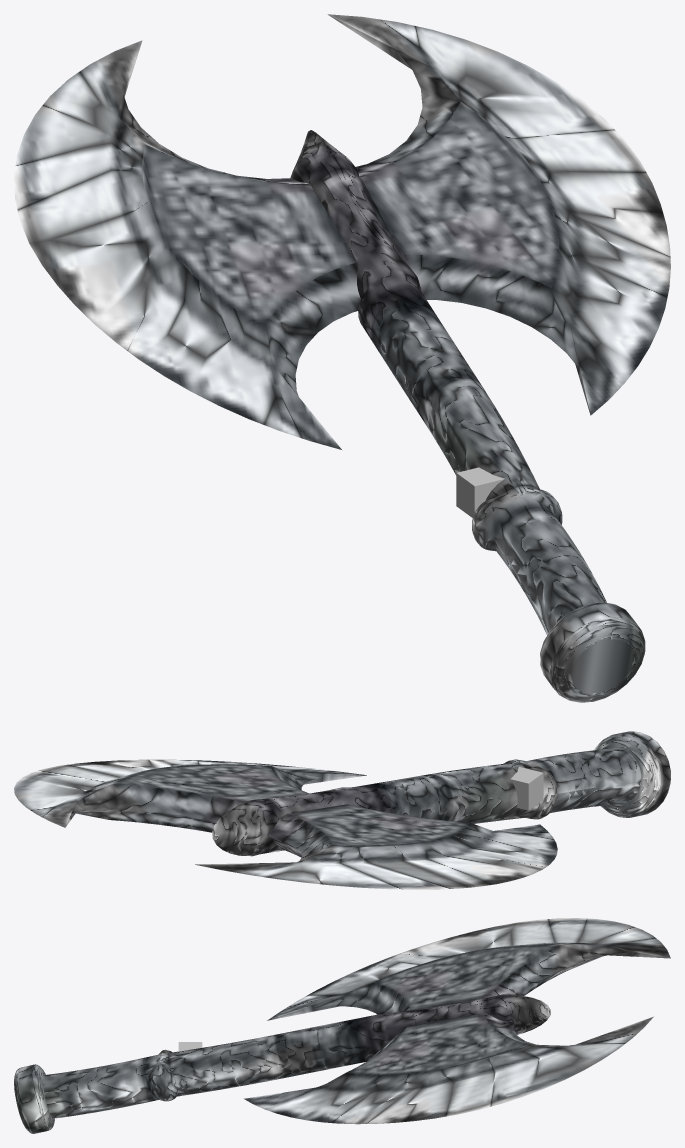
File: axe.obj
3 renders of one model, top to bottom at view 1: azimuth 30°, elevation 25°; view 2: azimuth 150°, elevation 25°; view 3: azimuth 270°, elevation 25°, orthographic. The views are drawn at different scales.
Parts seen in each view (by area): view 1: mesh1.001_mesh1-geometry, mesh3.001_mesh3-geometry, Cube; view 2: mesh1.001_mesh1-geometry, mesh3.001_mesh3-geometry, Cube; view 3: mesh1.001_mesh1-geometry, mesh3.001_mesh3-geometry.
Boxes of the visible parts, x1,y1,x2,y2 form: mesh1.001_mesh1-geometry: (14, 14, 670, 634); mesh3.001_mesh3-geometry: (540, 602, 645, 702); Cube: (456, 467, 504, 517); mesh1.001_mesh1-geometry: (14, 748, 641, 889); mesh3.001_mesh3-geometry: (594, 731, 670, 817); Cube: (510, 767, 543, 810); mesh1.001_mesh1-geometry: (43, 918, 670, 1124); mesh3.001_mesh3-geometry: (14, 1064, 54, 1133).
Bounding box in the file's own units: 35.92 × 17.34 × 55.48.
